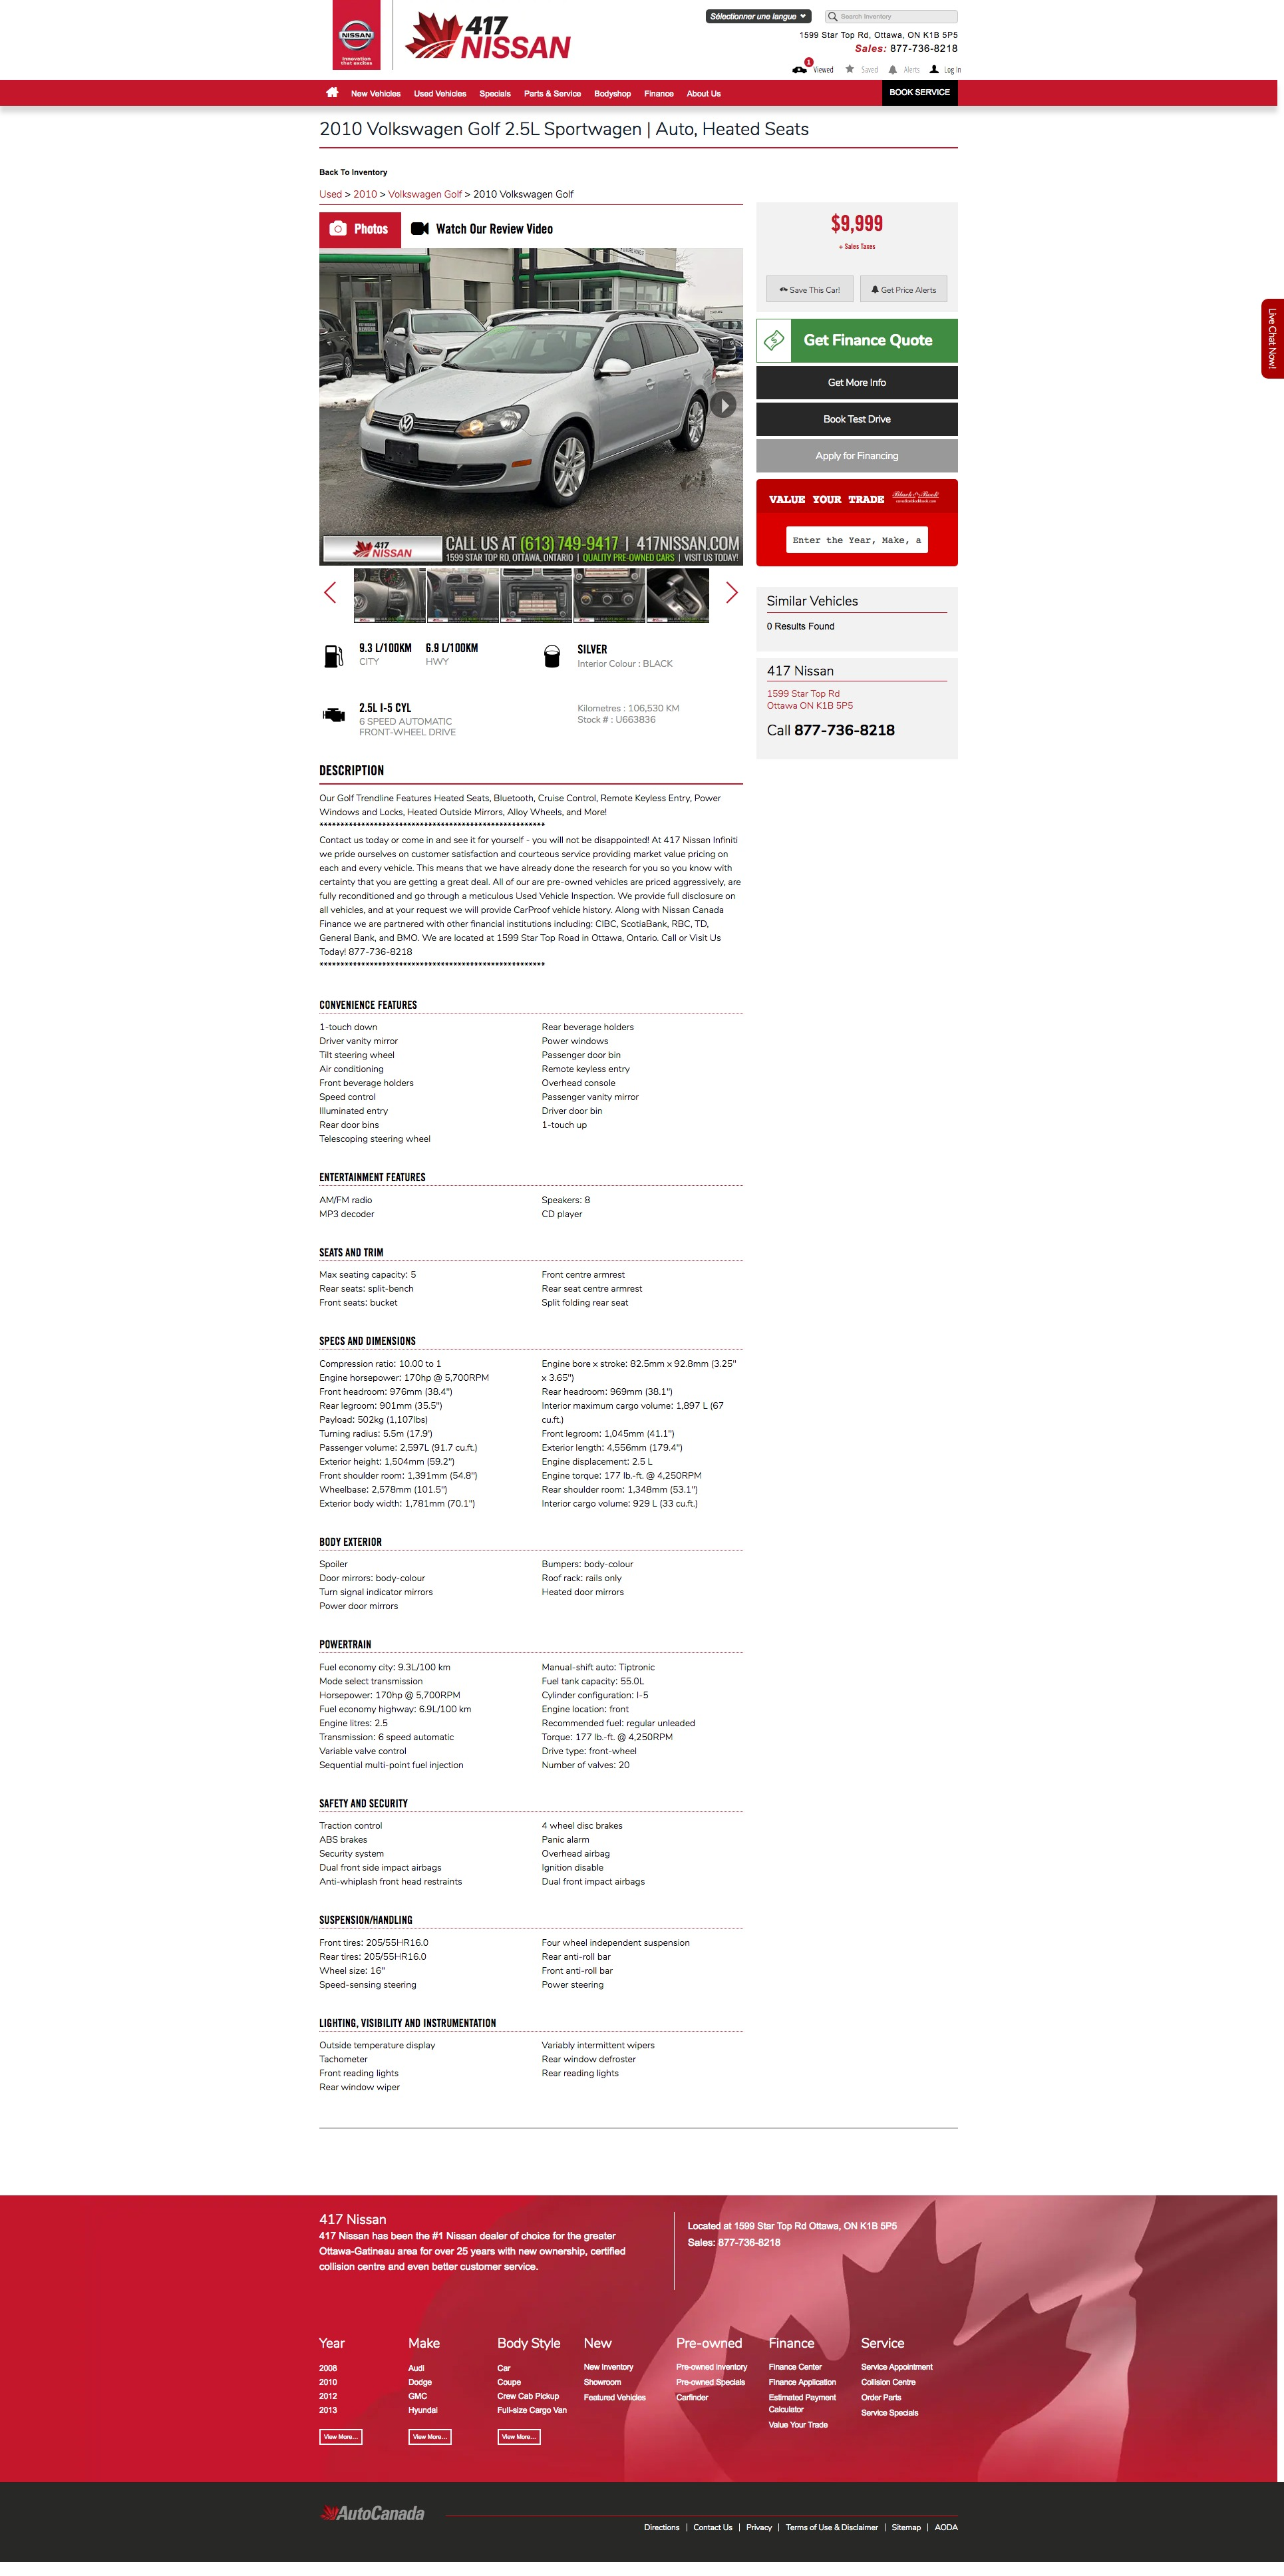car: (722, 580, 742, 606)
